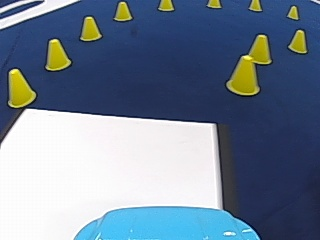cone: (226, 52, 260, 95), (6, 67, 36, 107), (44, 38, 71, 70), (246, 33, 272, 64), (79, 15, 101, 40), (288, 28, 307, 53), (113, 1, 132, 21), (286, 4, 299, 20), (158, 0, 173, 11), (248, 0, 262, 11), (207, 0, 221, 8)
